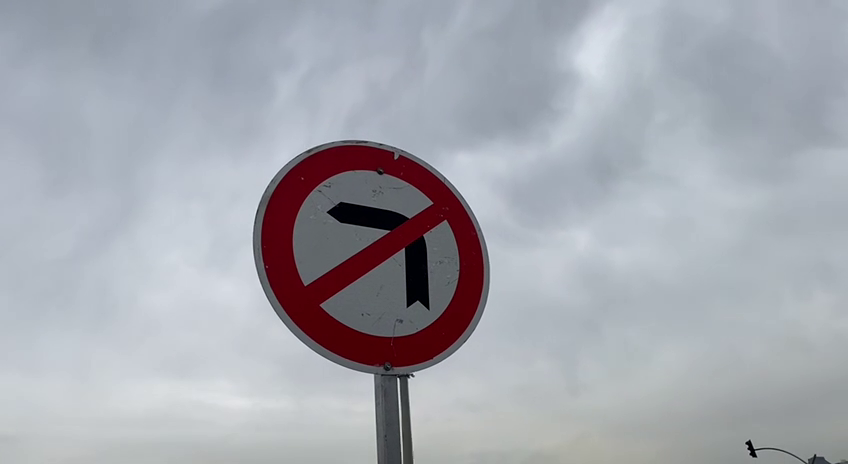noTurnLeft: (247, 132, 502, 380)
